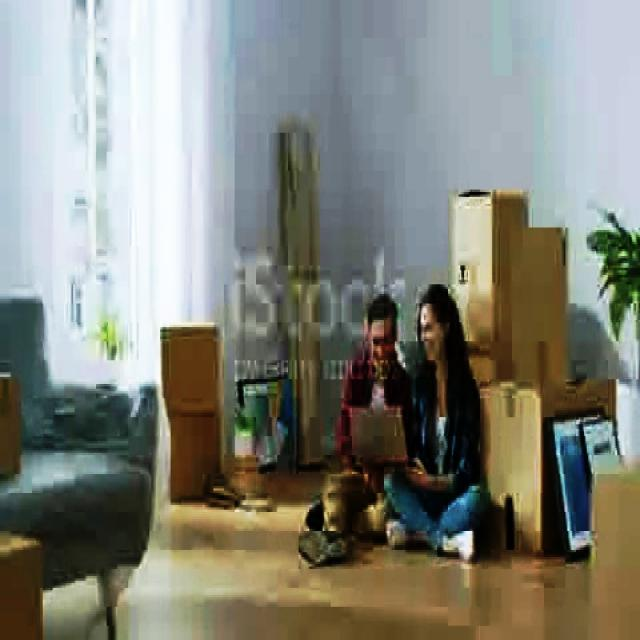Box: (459, 185, 533, 358), (160, 408, 221, 495), (162, 320, 214, 410)
